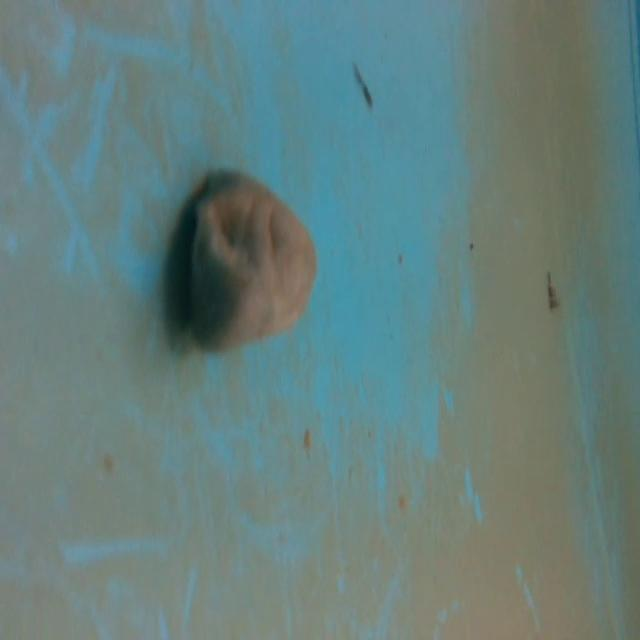rock: (172, 163, 324, 360)
